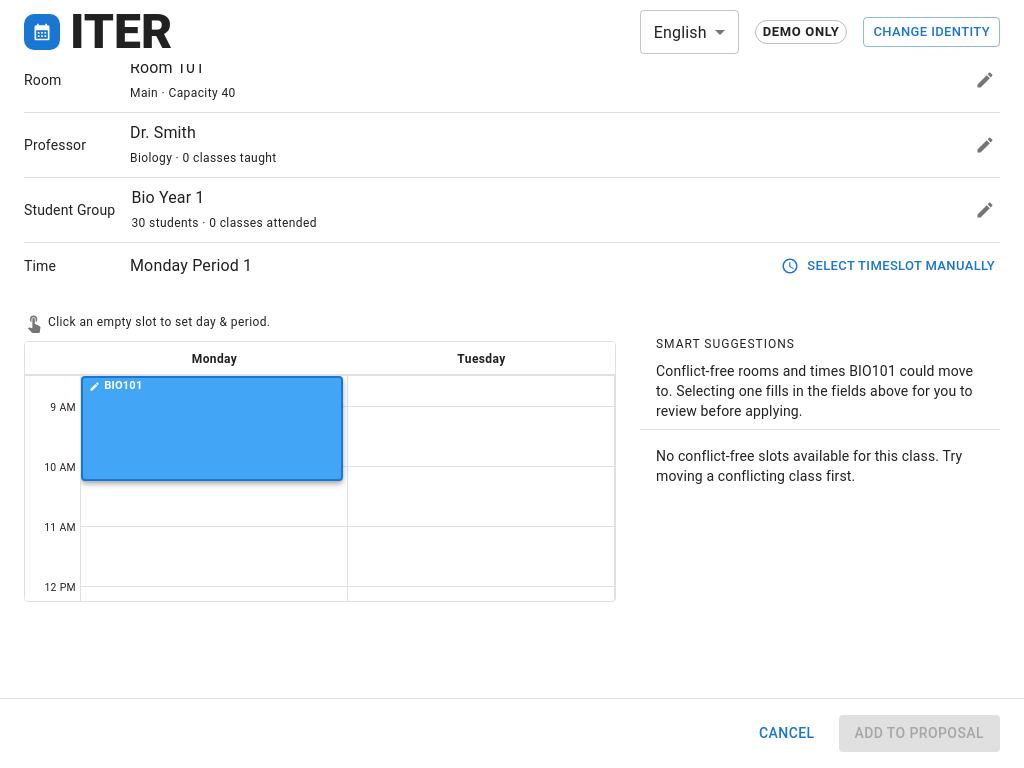
Test: EditClassPage › shows an error and does not navigate when applying fails
(page scrolled)
Click the button named "Use Monday Period 2".
click(214, 549)  # box [81,496,347,601]
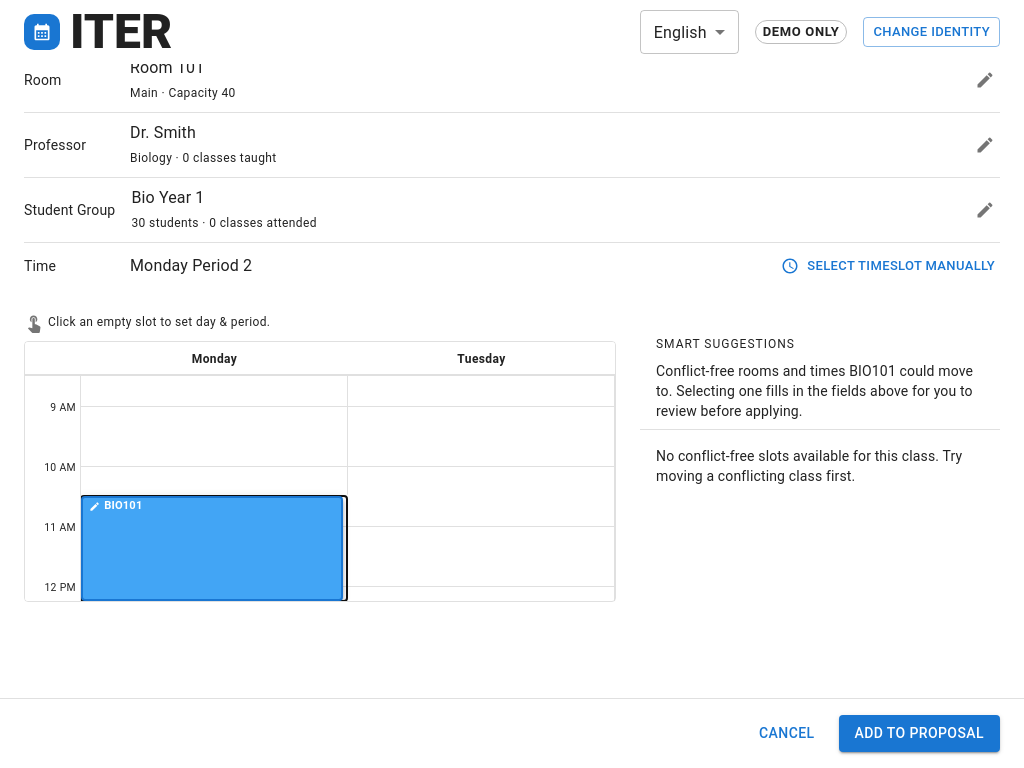
Click the button "Add to Proposal".
click(919, 734)  # box [838,715,1000,752]
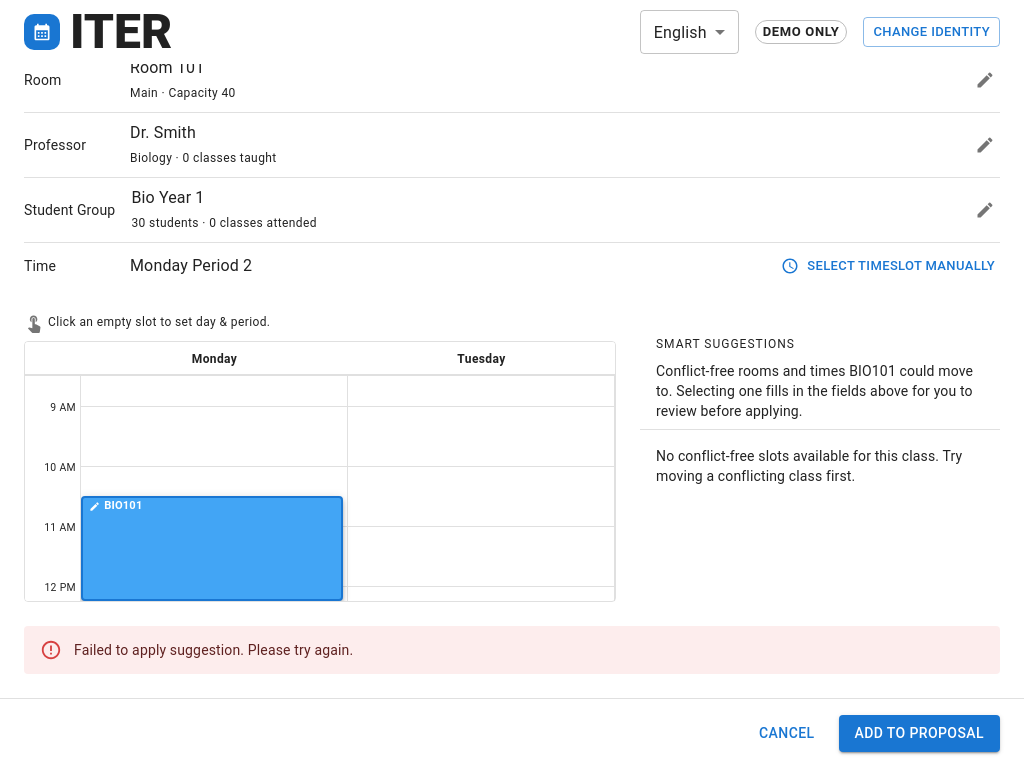
Result: the text "Failed to apply suggestion. Please try again." is shown at [74,642,353,658]
